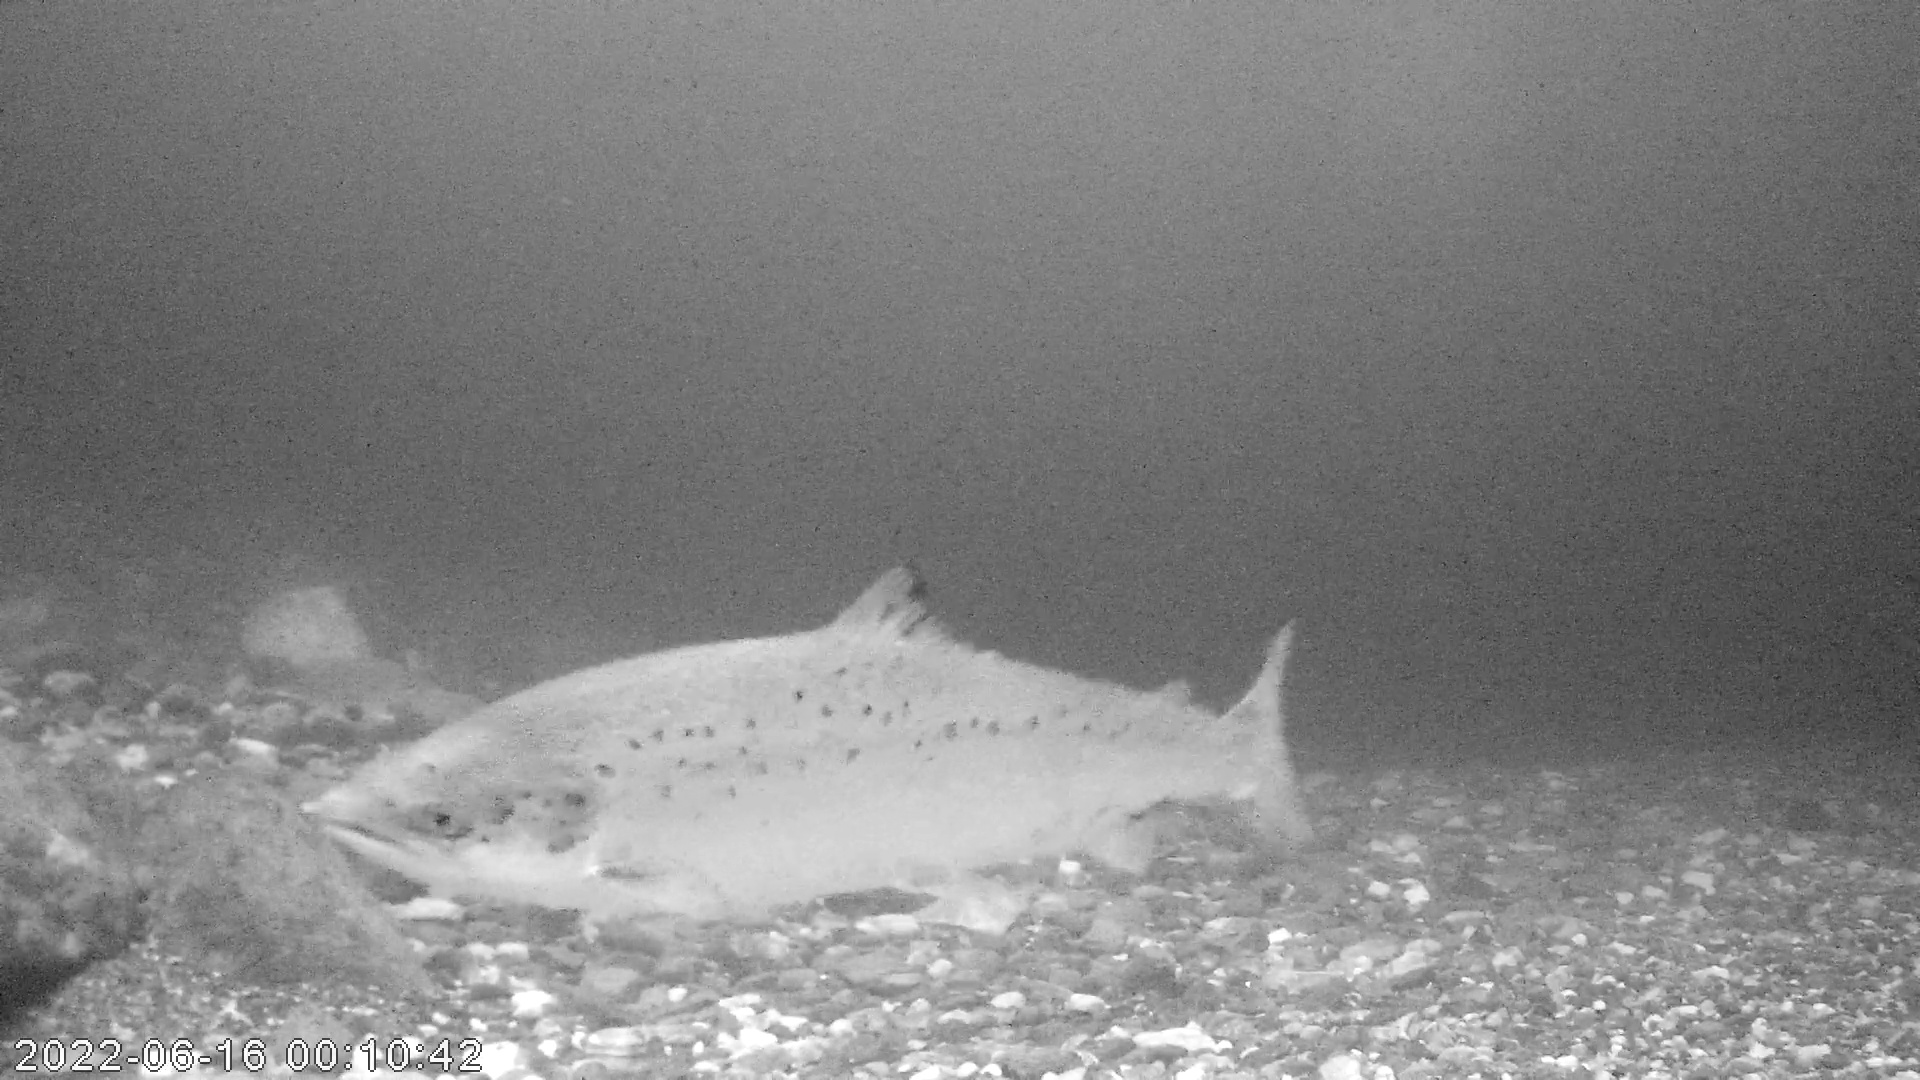salmon: (302, 556, 1320, 923)
